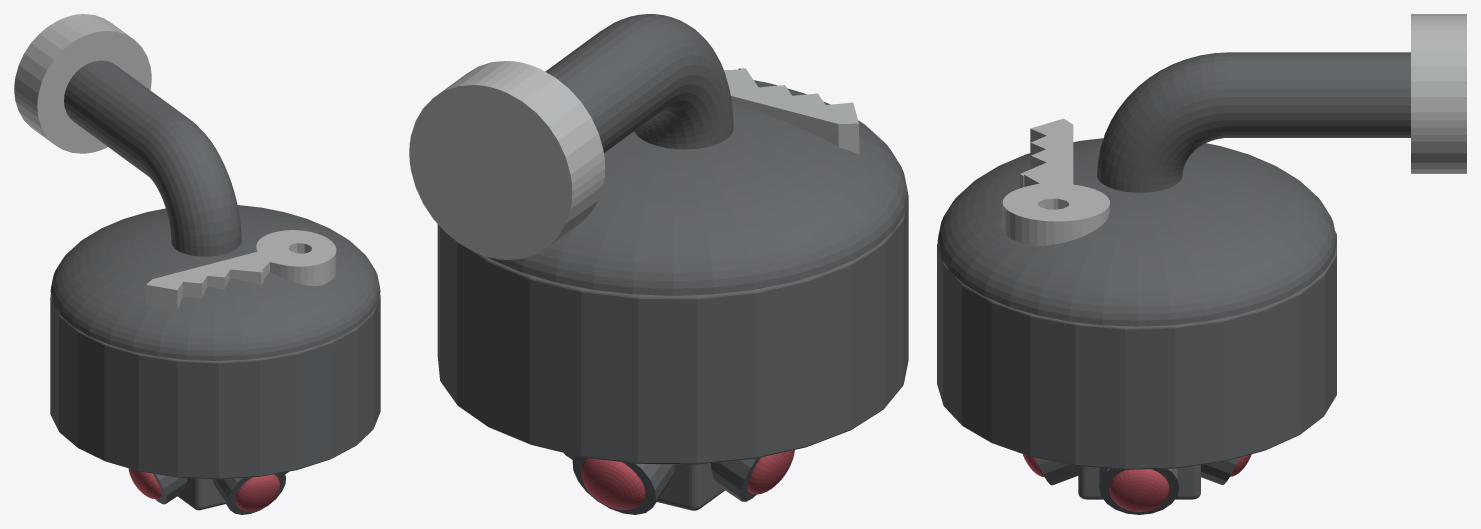
File: Multimode camera black base.glb
3 renders of one model, left to right at view 1: azimuth 30°, elevation 25°; view 2: azimuth 150°, elevation 25°; view 3: azimuth 270°, elevation 25°, orthographic. The views are drawn at different scales.
Parts seen in each view (by area): view 1: Mesh_Mesh_head_geo.001_lambert2SG.001; view 2: Mesh_Mesh_head_geo.001_lambert2SG.001; view 3: Mesh_Mesh_head_geo.001_lambert2SG.001.
Part boxes in pixels (bbox=[...]): Mesh_Mesh_head_geo.001_lambert2SG.001: bbox=[14, 14, 380, 514]; Mesh_Mesh_head_geo.001_lambert2SG.001: bbox=[409, 14, 908, 514]; Mesh_Mesh_head_geo.001_lambert2SG.001: bbox=[937, 14, 1466, 514].
Bounding box in the file's own units: 127 × 159 × 168.
